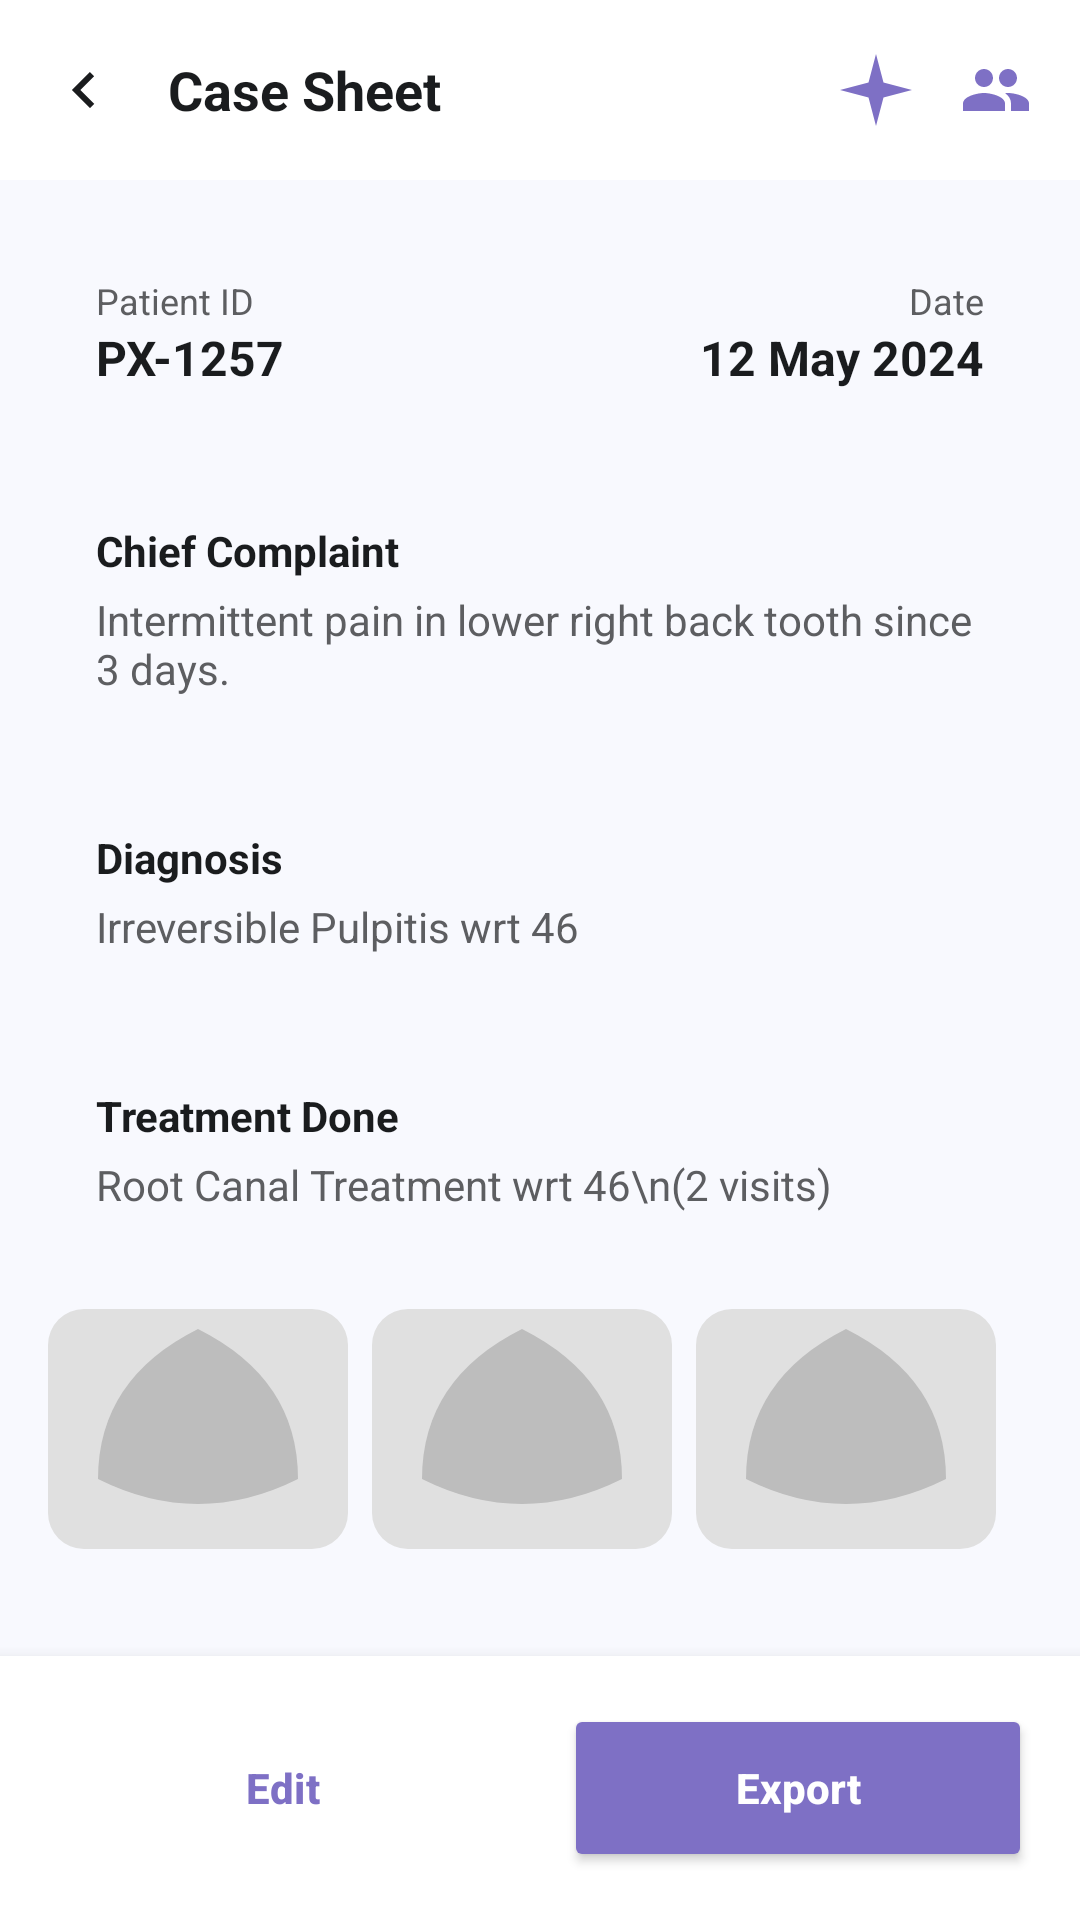

Icons on this 1080w x 1920h Android screen, each with its box as (x1, y1, x2, y2):
sparkle: (841, 55, 911, 125)
